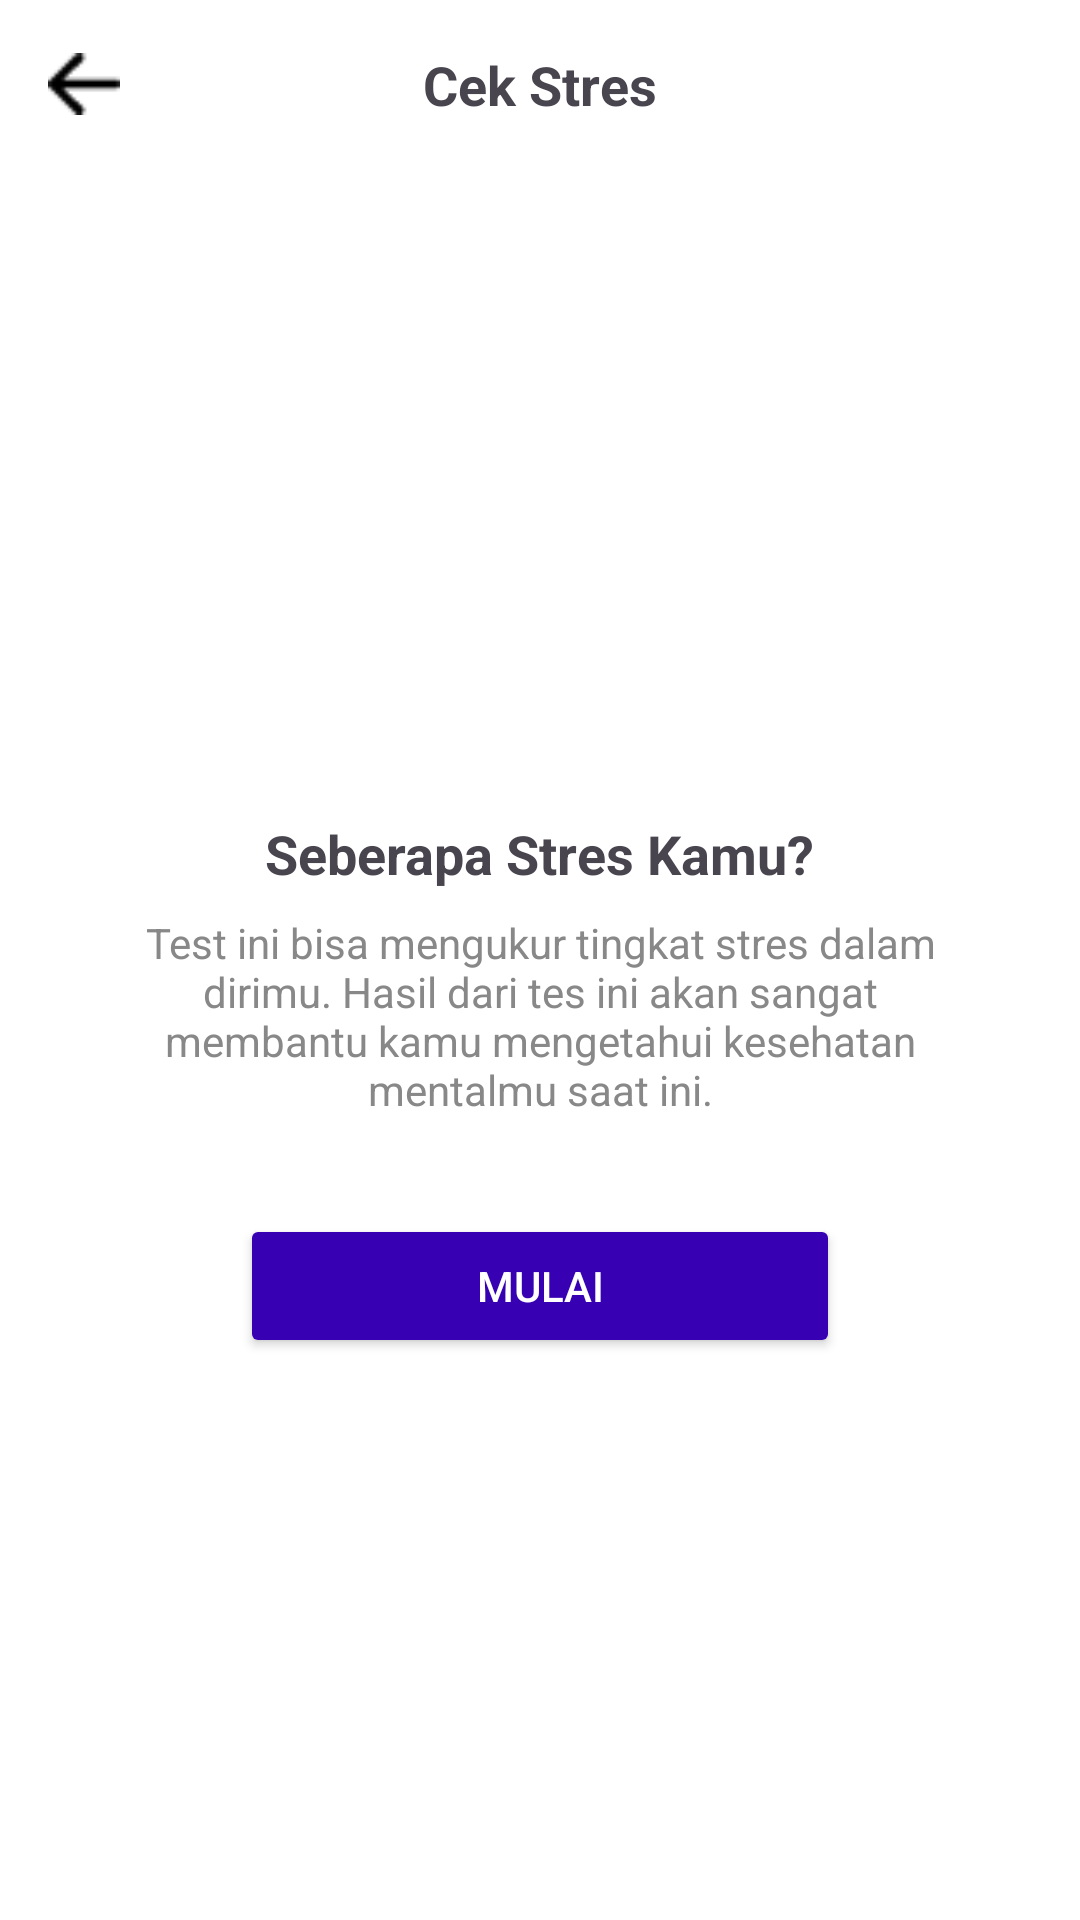

Icon bounding boxes for this 1080w x 1920h phone screenshot, format detection(x1, y1, x2, y2):
Kembali: detection(48, 53, 120, 115)
